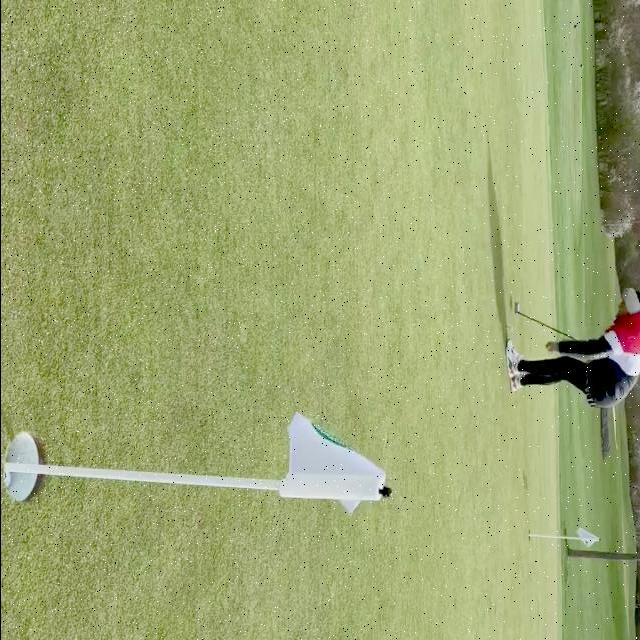ClubHandle: (513, 302, 576, 341)
ClubHead: (513, 302, 518, 314)
GolfBall: (4, 473, 10, 487)
